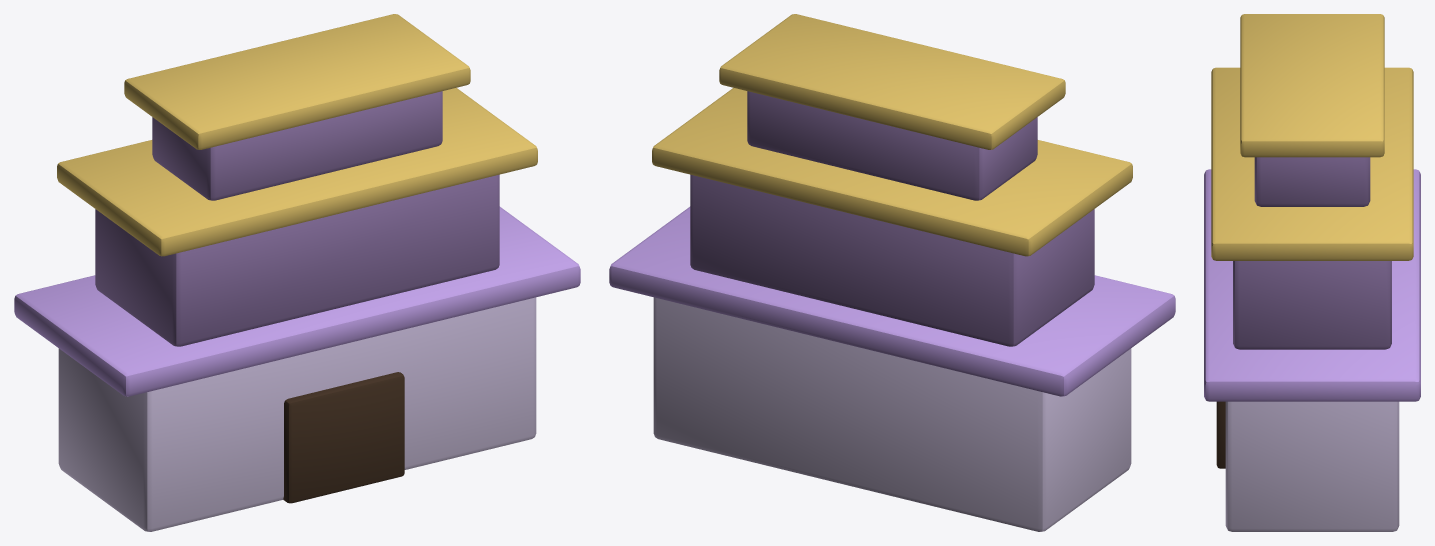
The picture shows the model from 3 angles, left to right: view 1: azimuth 30°, elevation 25°; view 2: azimuth 150°, elevation 25°; view 3: azimuth 270°, elevation 25°; orthographic projection. The views are drawn at different scales.
Visible parts, largest first — view 1: landmark_c16de11b; view 2: landmark_c16de11b; view 3: landmark_c16de11b.
Boxes of the visible parts, x1=… form: landmark_c16de11b: x1=14, y1=14, x2=580, y2=531; landmark_c16de11b: x1=609, y1=14, x2=1175, y2=531; landmark_c16de11b: x1=1204, y1=14, x2=1420, y2=531.
Bounding box in the file's own units: 7 × 5.59 × 3.
